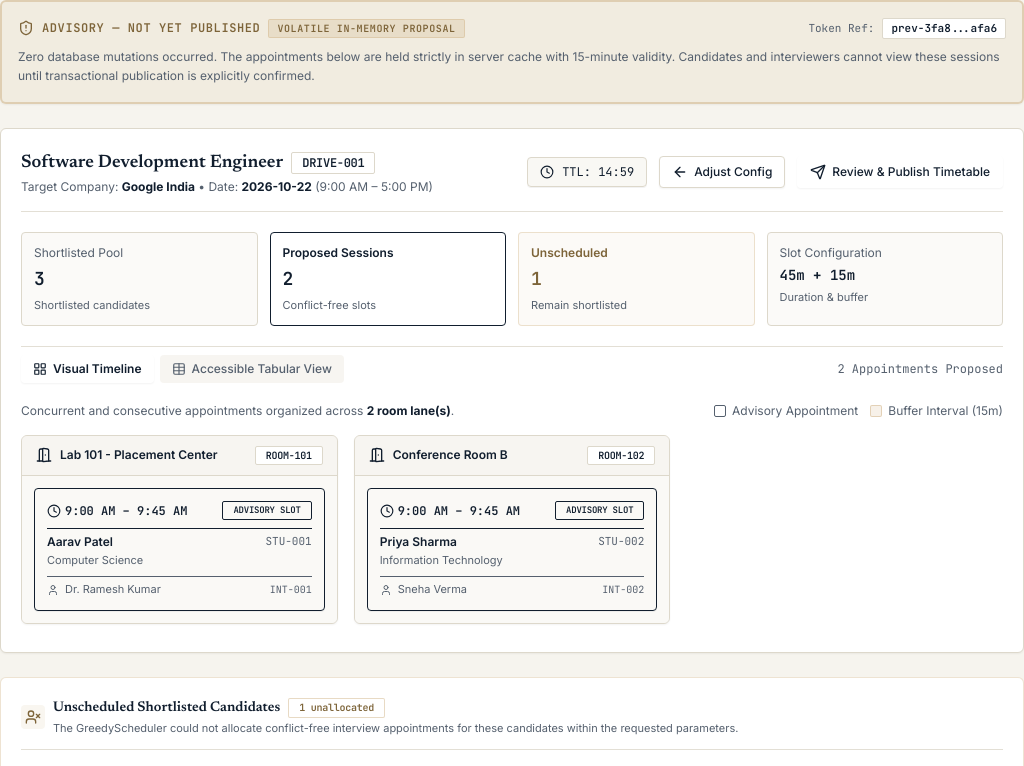
Placement Officer Scheduling Studio UI Components › AdvisoryPreviewView › switches between visual time grid and accessible data table views
Click the button "Accessible Tabular View" at (252,369), box [160,355,344,383]
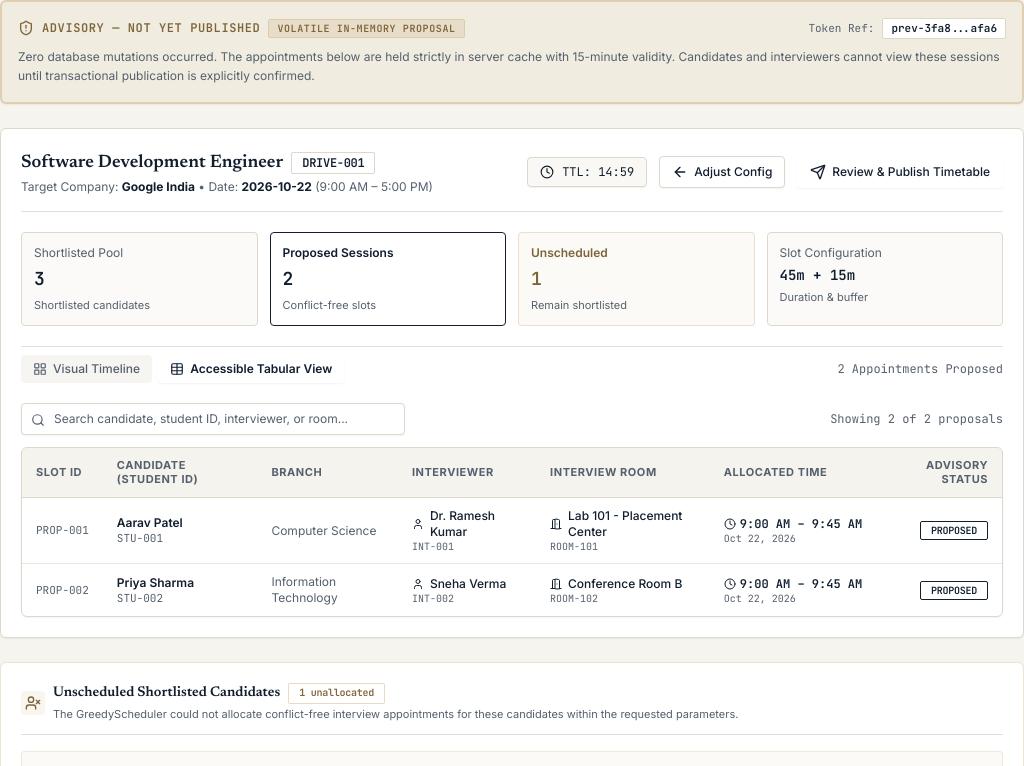
Expected: the search field with placeholder "Search candidate, student ID, interviewer, or room..." is shown, [21,403,405,435]
